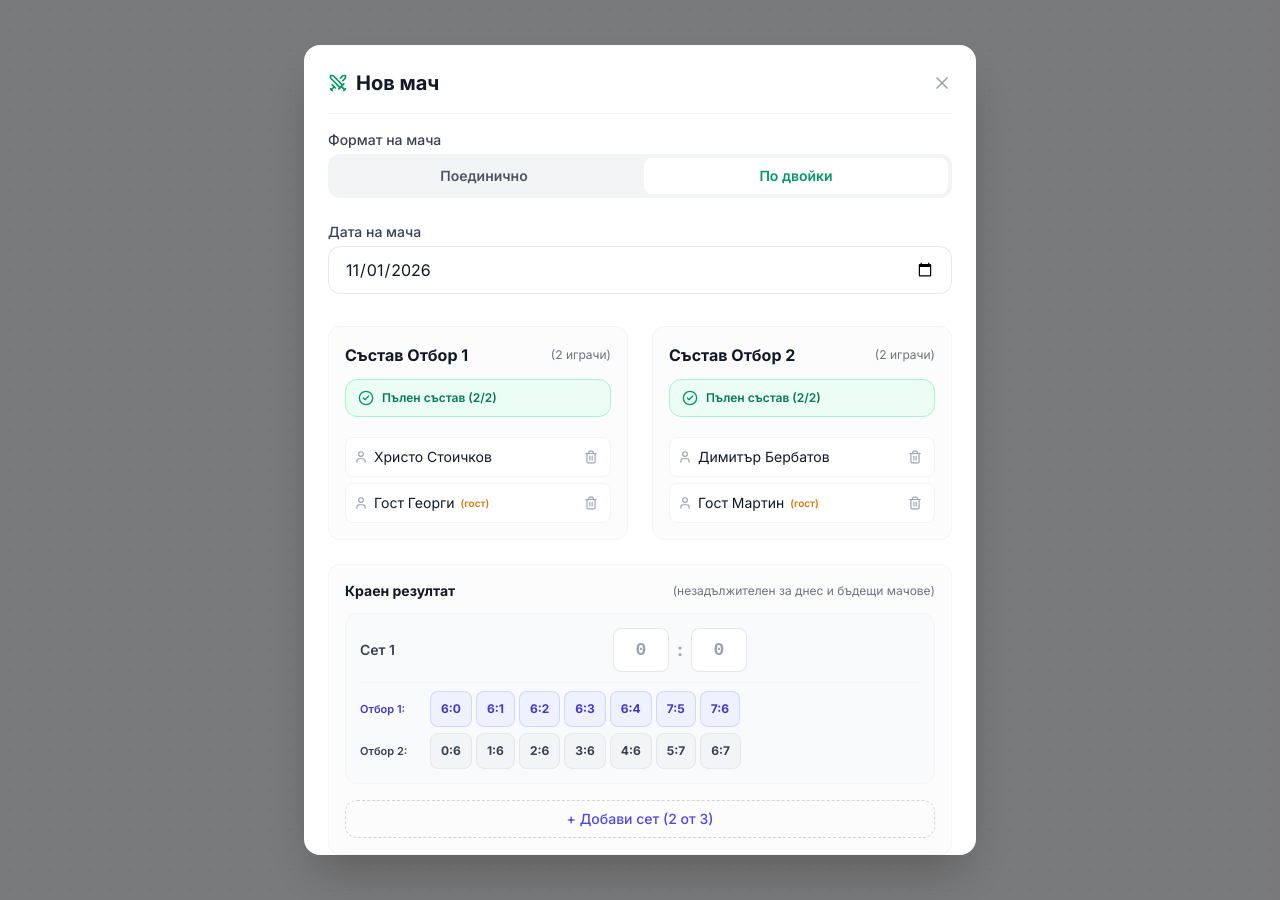
Test: MatchModal Component › Prefill from Generator Integration › Scenario 3 (Stage 5 Validation): displays warning banner and prevents submitting Singles format with 2 players per team
Explicitly switch to Singles
Click the button "Поединично": (484, 176) [332, 158, 636, 194]
(page scrolled)
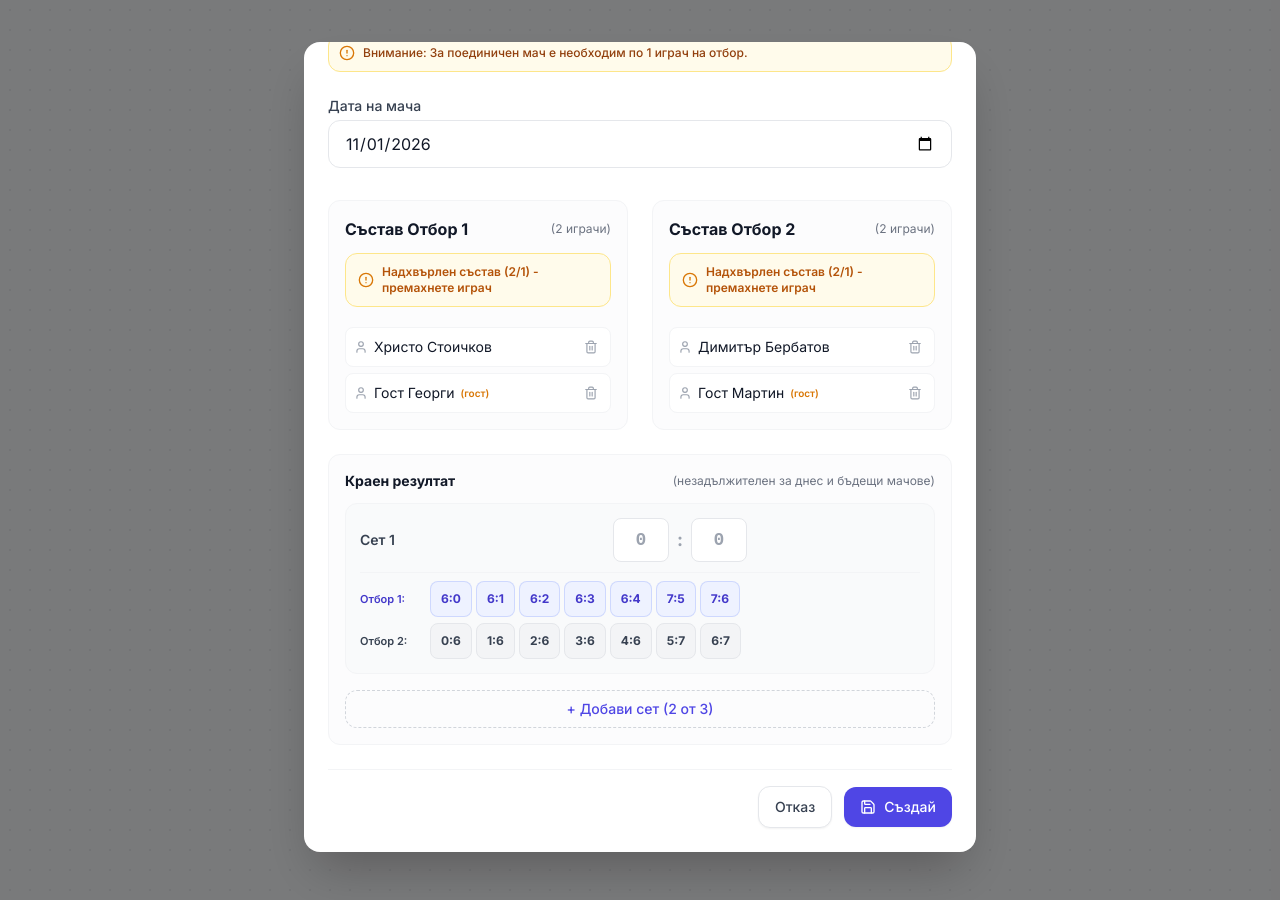
Expected: the text "Внимание: За поединичен мач е необходим по 1 играч на отбор." is shown, [363, 45, 748, 61]
Click the button "Създай": (898, 807) [844, 787, 952, 827]
(page scrolled)
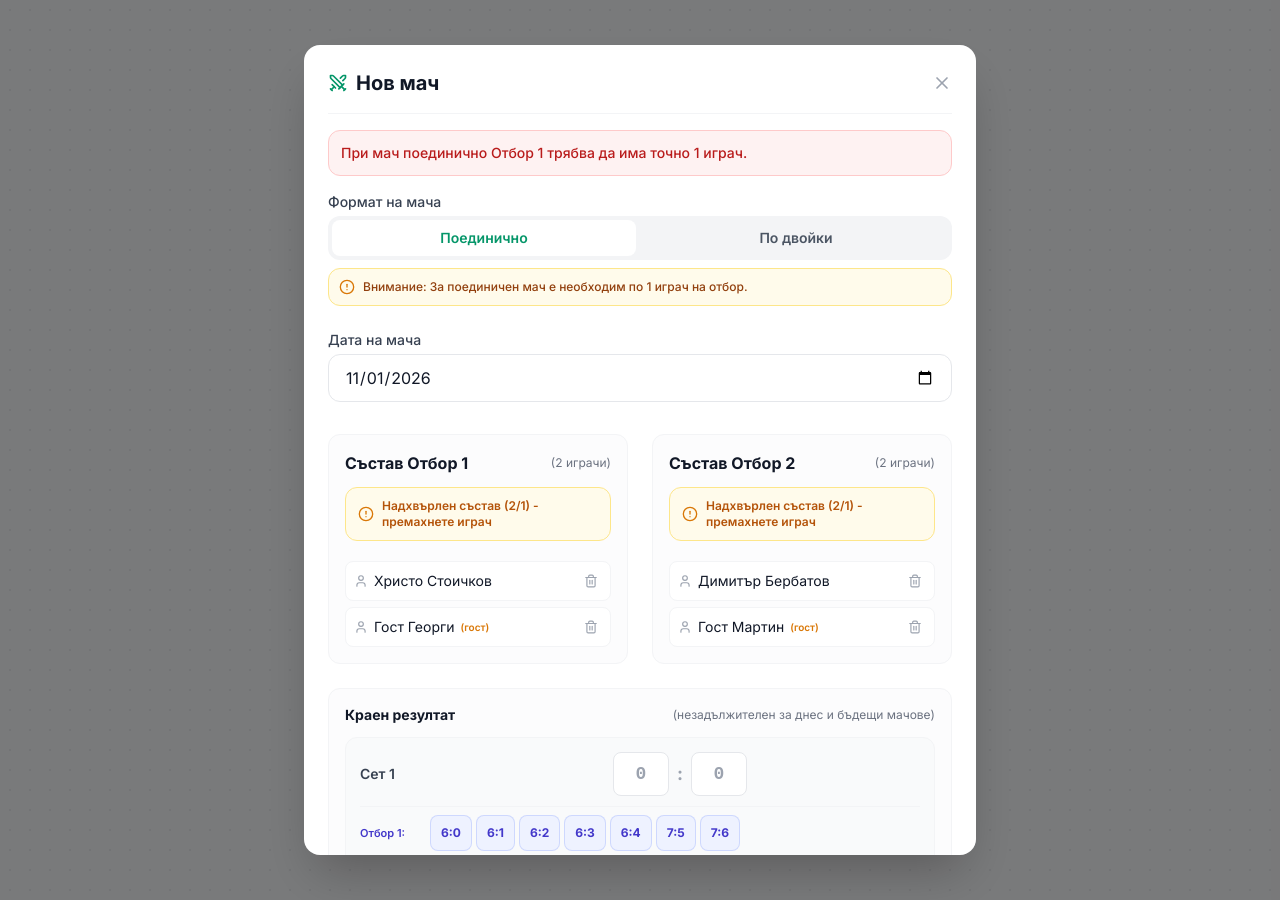
Expected: the text "При мач поединично Отбор 1 трябва да има точно 1 играч." is shown, [328, 130, 952, 176]
